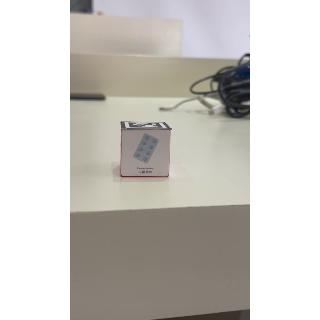Tablet: (125, 132, 170, 177)
